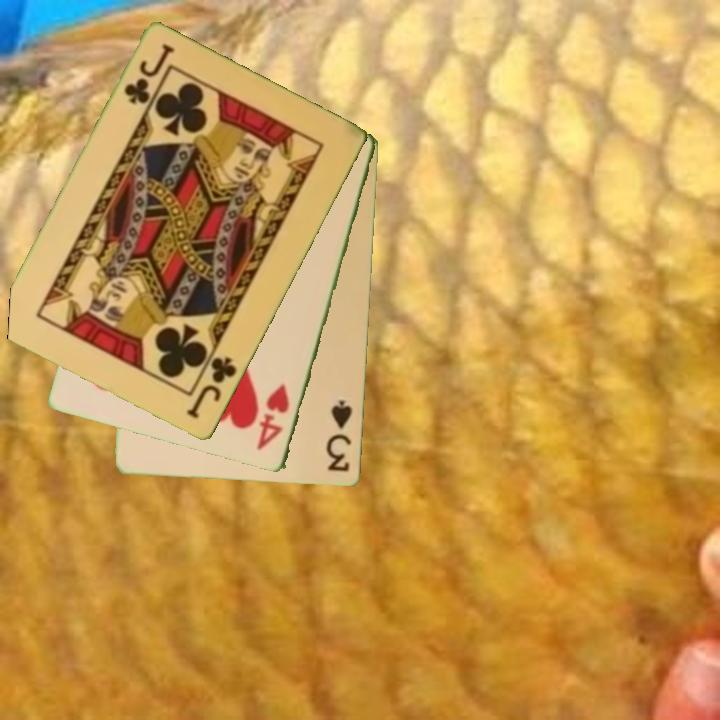3s: (324, 397, 355, 475)
4h: (253, 381, 293, 454)
Jc: (183, 353, 240, 422), (120, 40, 177, 108)
